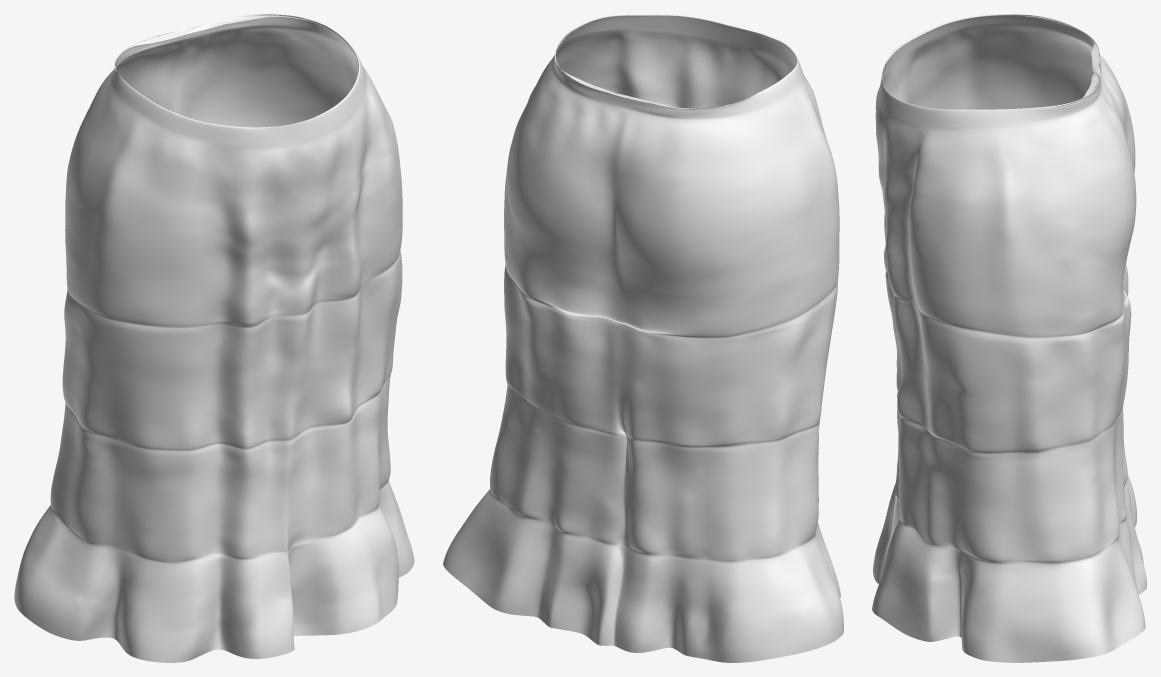
The model's file is Skirt.glb.
3 views of the same model, side by side, from view 1: azimuth 30°, elevation 25°; view 2: azimuth 150°, elevation 25°; view 3: azimuth 270°, elevation 25° (orthographic). The views are drawn at different scales.
Visible parts, largest first — view 1: BardotSkirt_8467.002; view 2: BardotSkirt_8467.002; view 3: BardotSkirt_8467.002.
Part boxes in pixels (box(x1,y1,x2,y2)): BardotSkirt_8467.002: box(14, 14, 414, 662); BardotSkirt_8467.002: box(443, 14, 843, 662); BardotSkirt_8467.002: box(872, 14, 1146, 662).
Size of the model in its own units: 12.27 by 17.12 by 8.06.
1 material, 1 textured.
